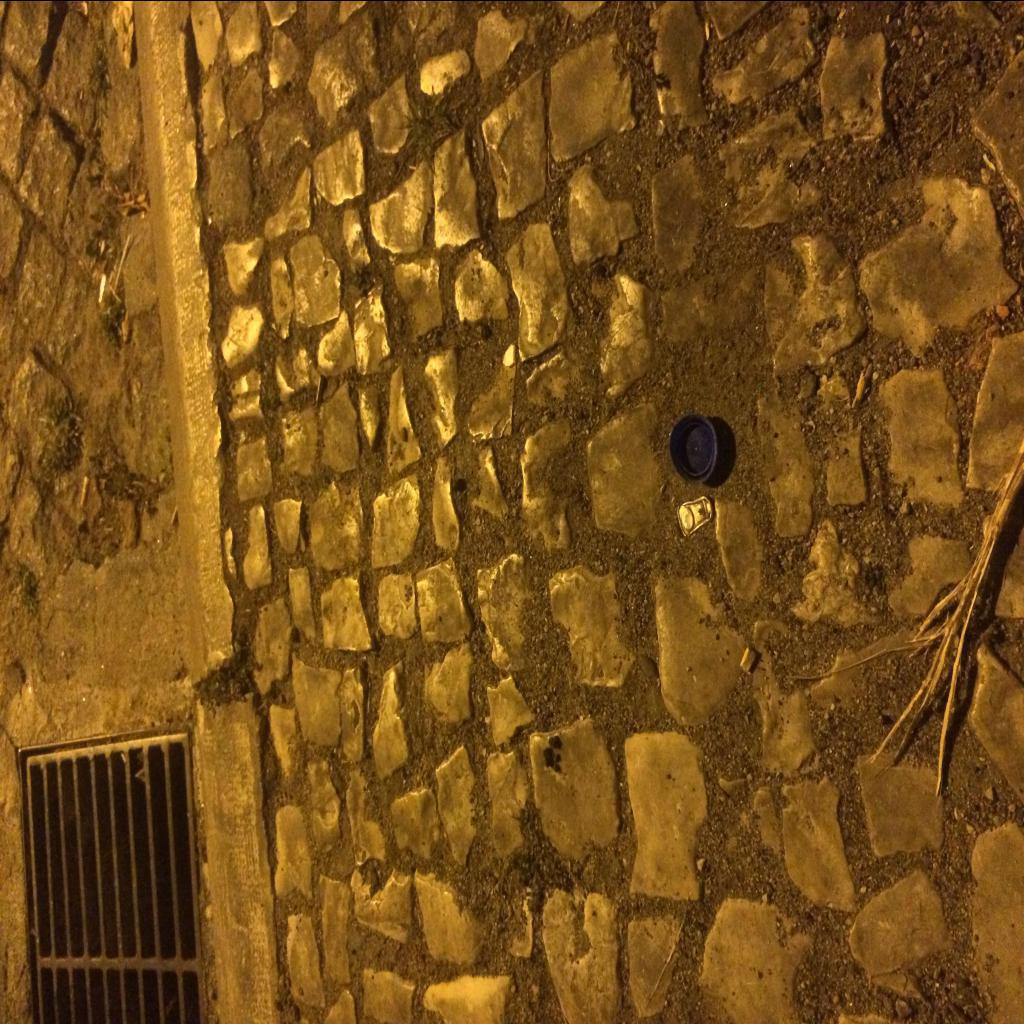Cigarette: (80, 474, 90, 504)
Plastic bottle cap: (670, 412, 718, 482)
Pop tab: (678, 496, 712, 536)
